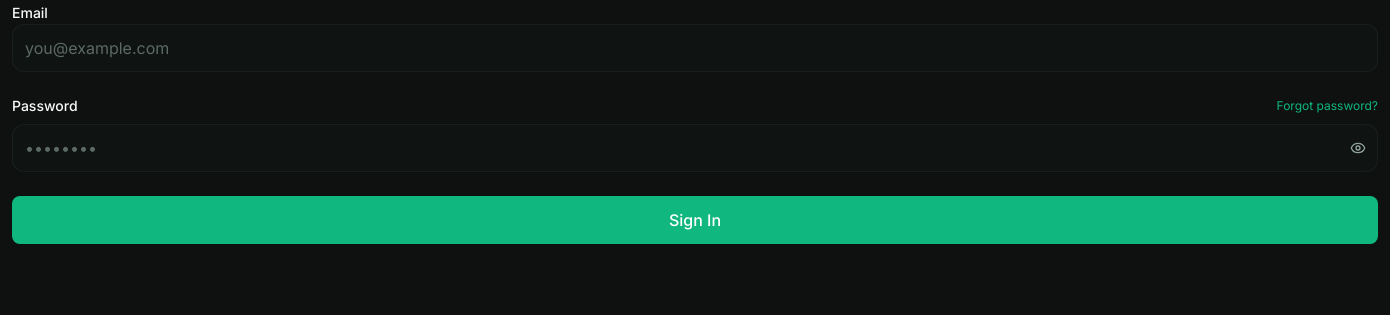
Test: LoginForm › shows validation errors when submitting empty fields
Submit without filling fields
Click the button "Sign In" at (695, 220), box [12, 196, 1378, 244]
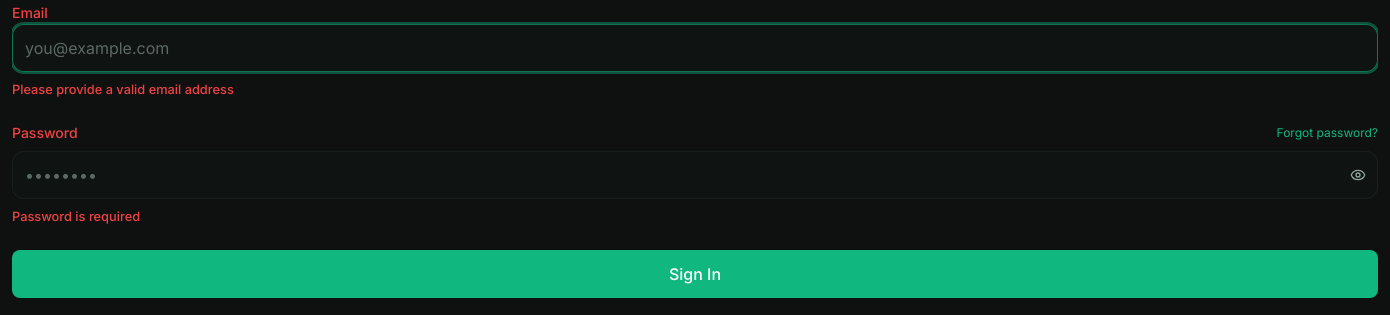
expect the text "Please provide a valid email address" is shown: met, box [12, 82, 234, 97]
expect the text "Password is required" is shown: met, box [12, 209, 140, 224]
